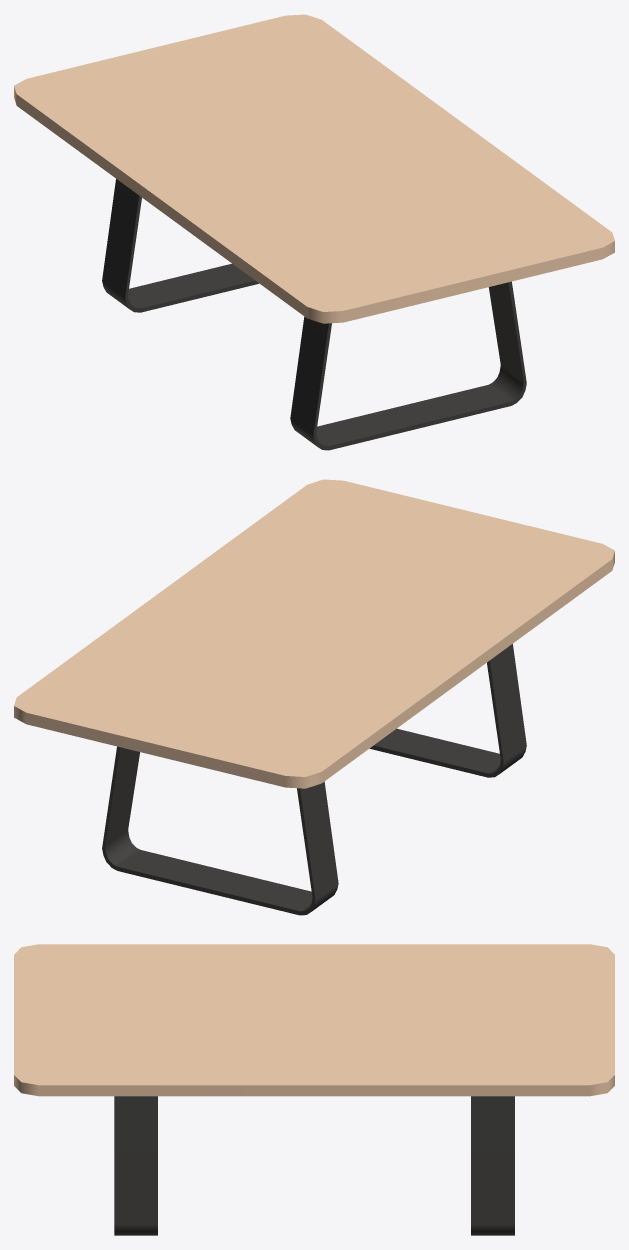
Rendered from Table2.fbx.
3 renders of one model, top to bottom at view 1: azimuth 30°, elevation 25°; view 2: azimuth 150°, elevation 25°; view 3: azimuth 270°, elevation 25°, orthographic. The views are drawn at different scales.
Visible parts, largest first — view 1: Table2; view 2: Table2; view 3: Table2.
Part boxes in pixels (bbox=[...]): Table2: bbox=[14, 14, 614, 450]; Table2: bbox=[14, 479, 614, 915]; Table2: bbox=[14, 944, 614, 1235].
Size of the model in its own units: 179 by 105 by 322.
